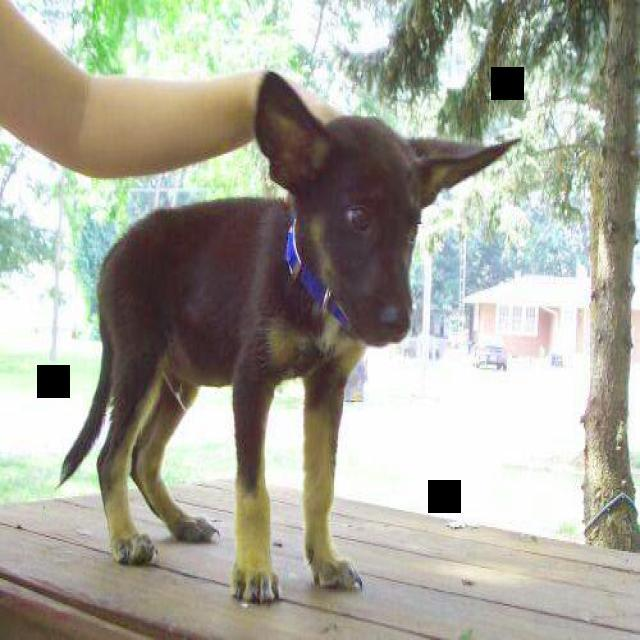puppy-dog: (48, 72, 523, 609)
